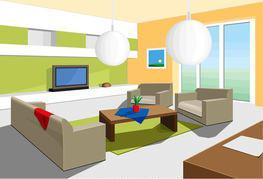chair: (126, 82, 173, 110)
diningtable: (97, 105, 180, 143)
pottedplant: (129, 95, 143, 112)
sofa: (9, 95, 108, 173), (173, 88, 234, 126)
tvmonitor: (46, 63, 90, 91)
